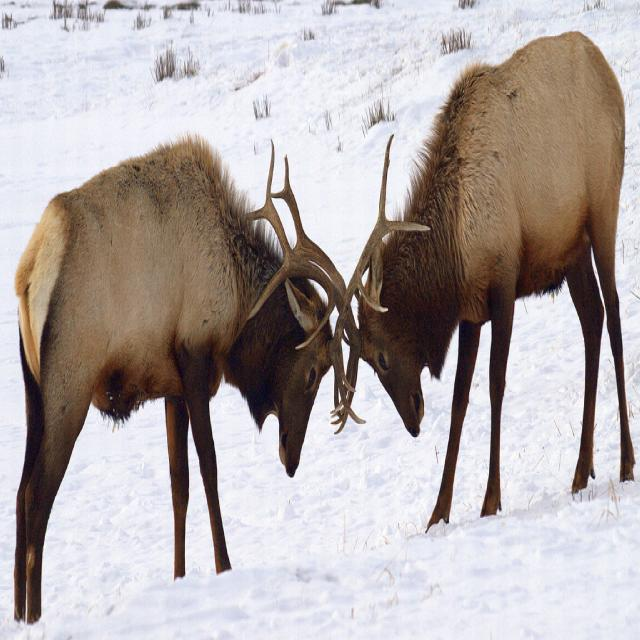Deer: (14, 133, 430, 625), (246, 30, 636, 533)
